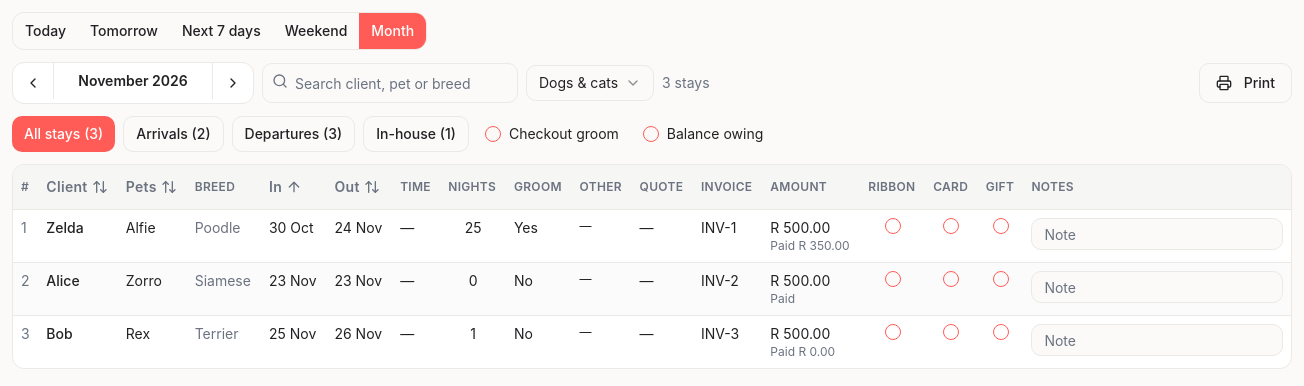
Test: checkout grooming filters to stays with grooming requested
The width and height of the screenshot is (1304, 386).
Expected: the link "Zelda" is shown, [46,219,84,236]
Click the checkbox named "Checkout groom" next to "Checkout groom".
click(493, 134)  # box [485,126,501,142]
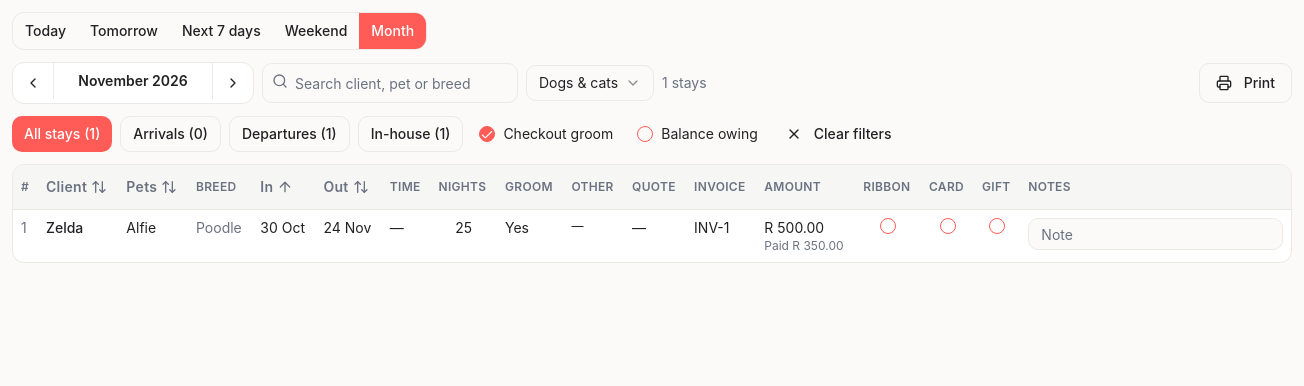
Expected: the link "Zelda" is shown, [46,219,83,236]
Now the link "Alice" is gone
Now the link "Bob" is gone
